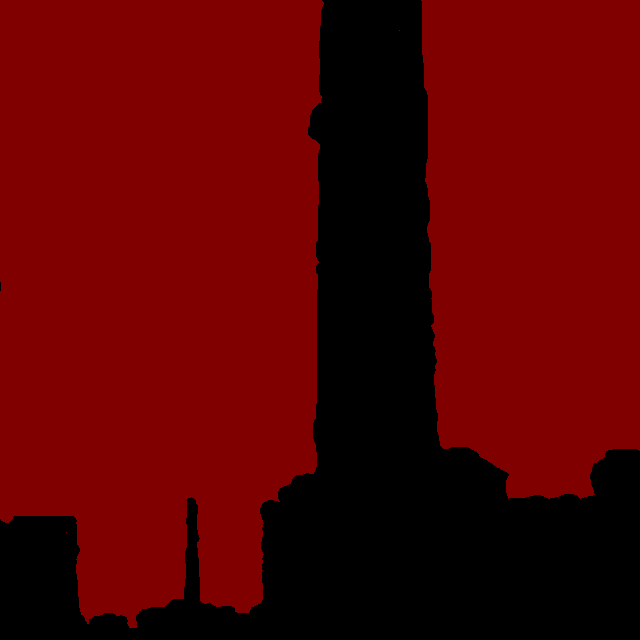Sky: (1, 1, 639, 627)
